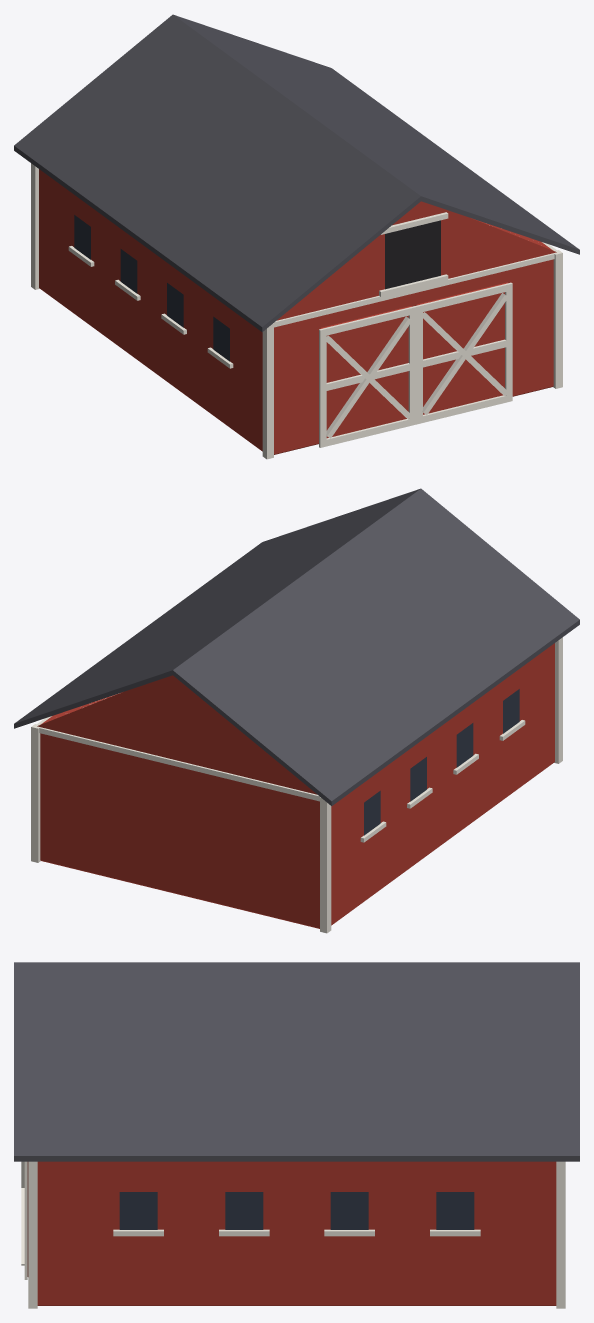
The model's file is Barn.fbx.
The picture shows the model from 3 angles, top to bottom: view 1: azimuth 30°, elevation 25°; view 2: azimuth 150°, elevation 25°; view 3: azimuth 270°, elevation 25°; orthographic projection. The views are drawn at different scales.
Visible parts, largest first — view 1: Barn_Roof, Barn_Body, Barn_Trim, Barn_Interior, Barn_Windows; view 2: Barn_Roof, Barn_Body, Barn_Trim, Barn_Windows; view 3: Barn_Roof, Barn_Body, Barn_Windows, Barn_Trim.
Boxes of the visible parts, left/top/right/bottom form: Barn_Roof: left=14, top=14, right=579, bottom=332; Barn_Body: left=39, top=169, right=556, bottom=454; Barn_Trim: left=31, top=163, right=562, bottom=459; Barn_Interior: left=385, top=220, right=440, bottom=289; Barn_Windows: left=74, top=215, right=229, bottom=361; Barn_Roof: left=14, top=488, right=579, bottom=806; Barn_Body: left=37, top=643, right=554, bottom=928; Barn_Trim: left=31, top=637, right=562, bottom=933; Barn_Windows: left=364, top=689, right=519, bottom=835; Barn_Roof: left=14, top=962, right=579, bottom=1161; Barn_Body: left=27, top=1161, right=556, bottom=1305; Barn_Windows: left=119, top=1192, right=474, bottom=1229; Barn_Trim: left=21, top=1161, right=565, bottom=1308.
Size of the model in its own units: 39.6 by 27.6 by 53.6.
